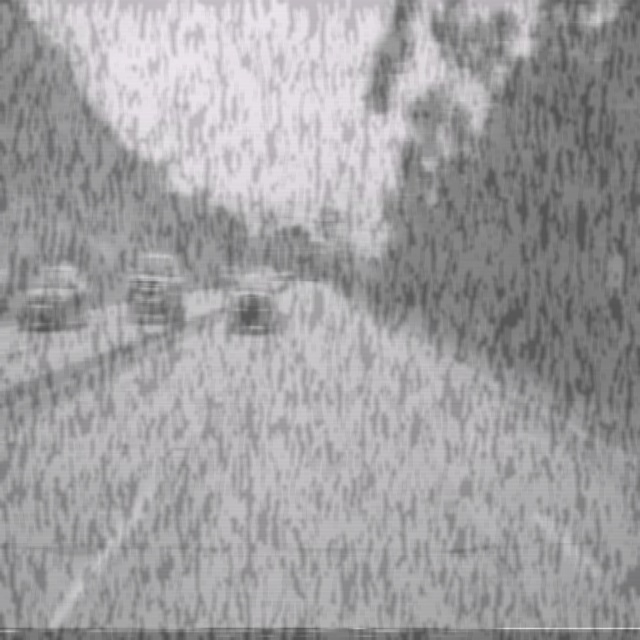signalAhead: (237, 218, 252, 250), (378, 247, 394, 276)
